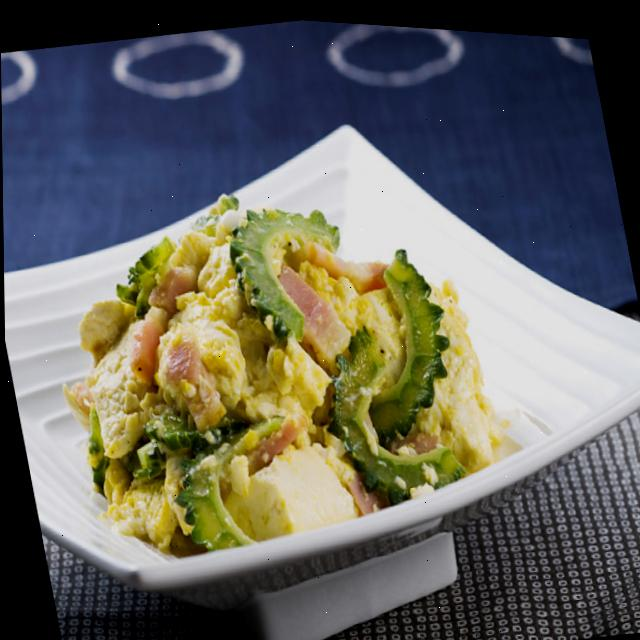熟制海鲜: (0, 25, 640, 639)
